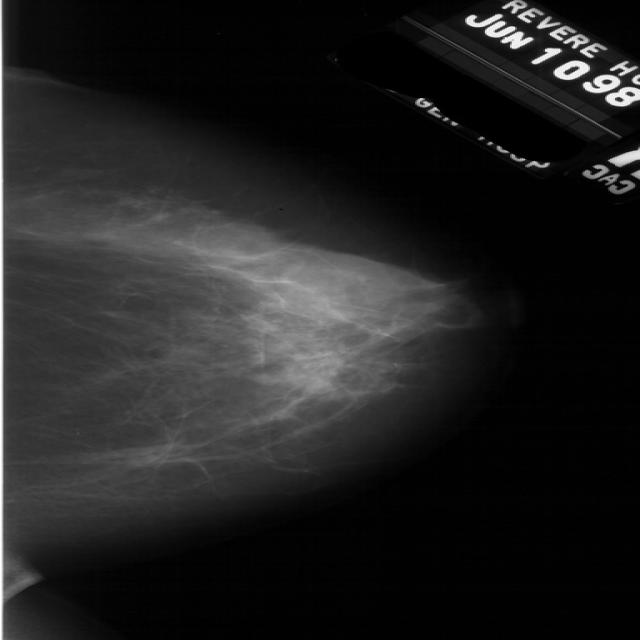tumour: (280, 351, 343, 394)
